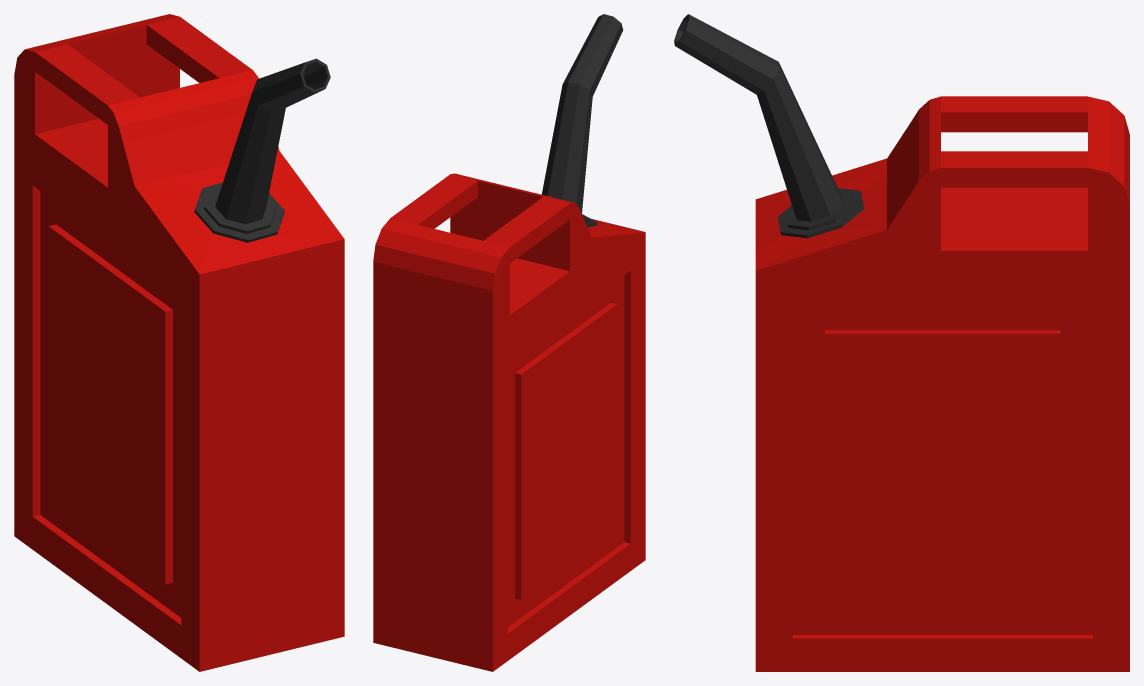
The model's file is Gasoline.fbx.
3 renders of one model, left to right at view 1: azimuth 30°, elevation 25°; view 2: azimuth 150°, elevation 25°; view 3: azimuth 270°, elevation 25°, orthographic. The views are drawn at different scales.
Visible parts, largest first — view 1: Gasoline; view 2: Gasoline; view 3: Gasoline.
Part boxes in pixels (x1=…): Gasoline: x1=14, y1=14, x2=344, y2=671; Gasoline: x1=373, y1=14, x2=645, y2=671; Gasoline: x1=674, y1=14, x2=1129, y2=671.
Bounding box in the file's own units: 17.58 × 71.5 × 47.42.
